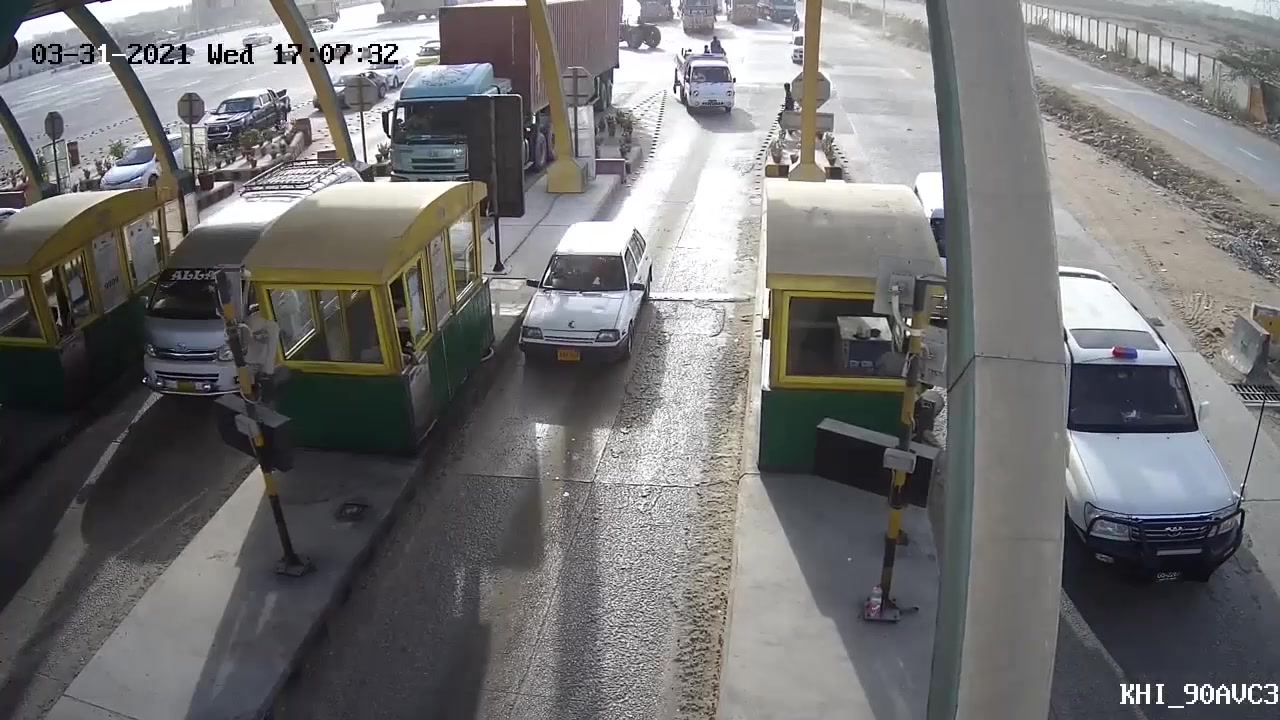F1: (517, 218, 659, 375)
